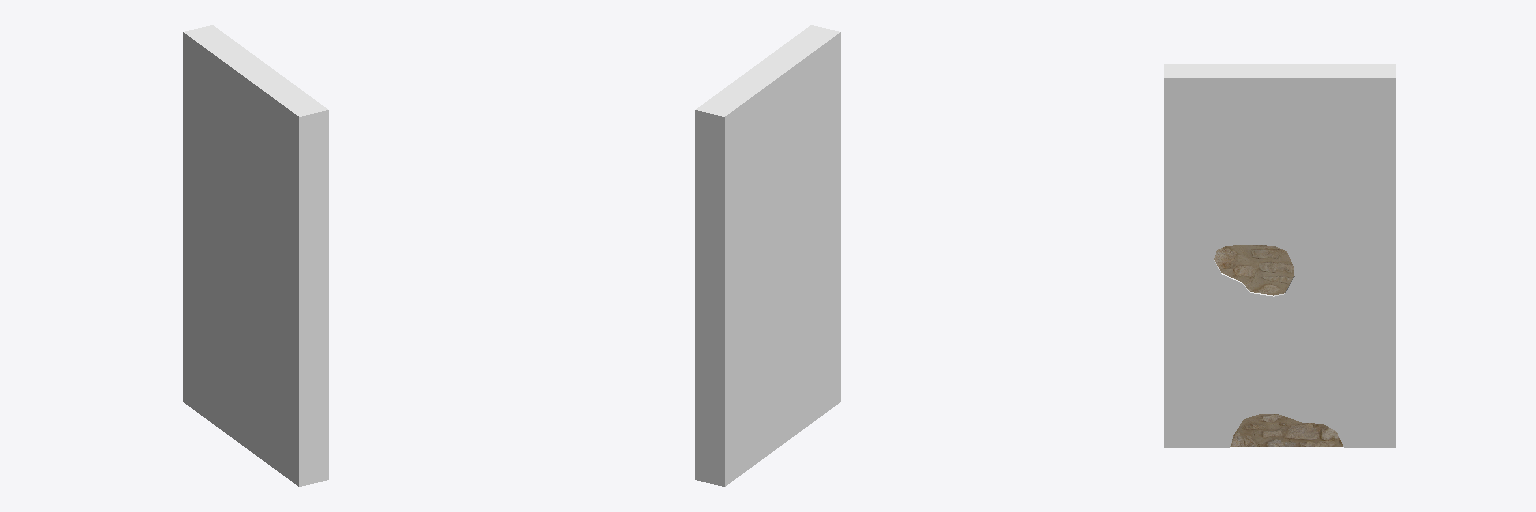
The picture shows the model from 3 angles: view 1: azimuth 30°, elevation 25°; view 2: azimuth 150°, elevation 25°; view 3: azimuth 270°, elevation 25°; orthographic projection.
Parts seen in each view (by area): view 1: Box01; view 2: Box01; view 3: Box01, Scratch1aa.
Part boxes in pixels (x1,y1,x2,y2): Box01: (183,25,328,486); Box01: (695,25,840,486); Box01: (1164,64,1395,447); Scratch1aa: (1214,245,1342,446).
Size of the model in its own units: 0.2924 by 3.51 by 2.
Materials: 2 (1 with a texture image).